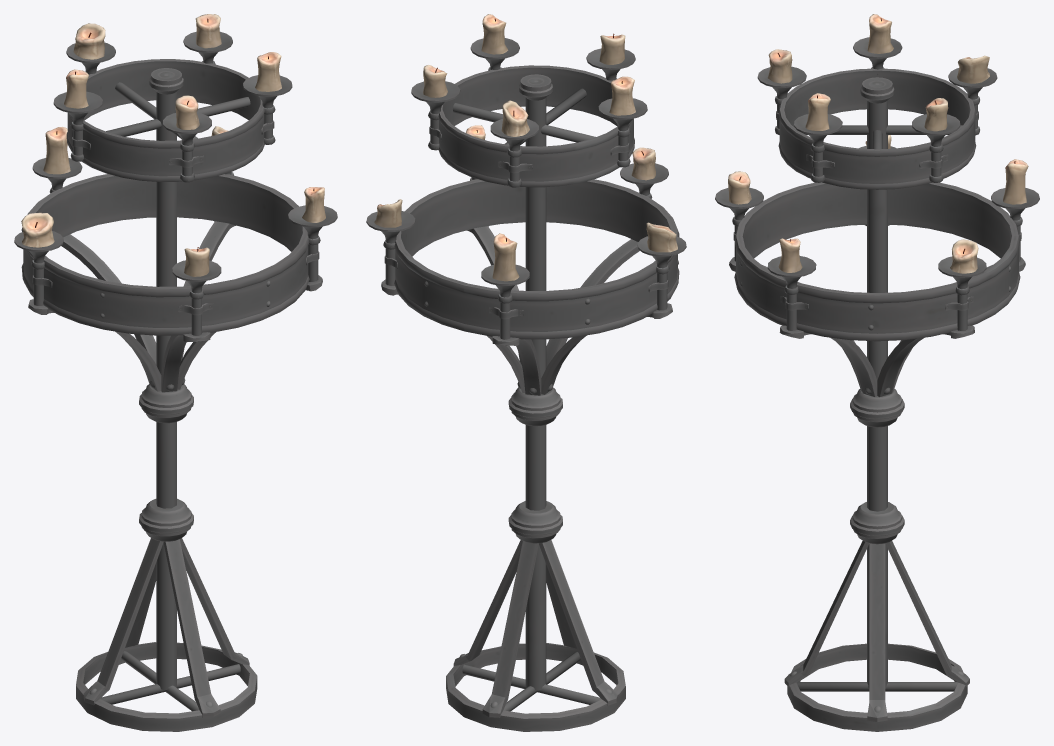
File: SM_Candelabra_01.fbx
3 renders of one model, left to right at view 1: azimuth 30°, elevation 25°; view 2: azimuth 150°, elevation 25°; view 3: azimuth 270°, elevation 25°, orthographic.
Parts seen in each view (by area): view 1: SM_Candelabra_01_LOD0; view 2: SM_Candelabra_01_LOD0; view 3: SM_Candelabra_01_LOD0.
Boxes of the visible parts, <box> form: SM_Candelabra_01_LOD0: <box>14,14,337,731</box>; SM_Candelabra_01_LOD0: <box>366,14,686,731</box>; SM_Candelabra_01_LOD0: <box>715,14,1039,731</box>.
Size of what is drawn, in the model's own units: 0.9104 by 2.04 by 0.9456.
